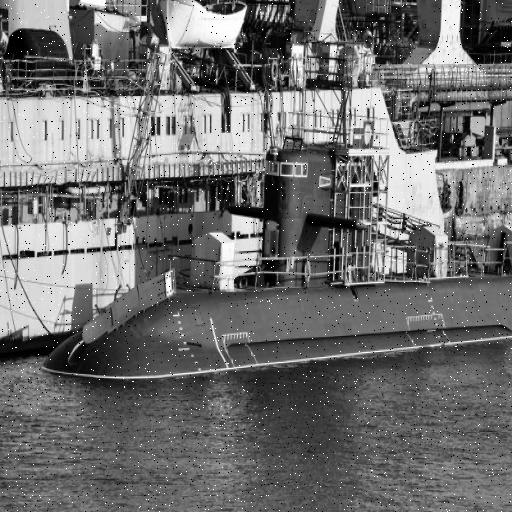submarine: (45, 128, 512, 374)
